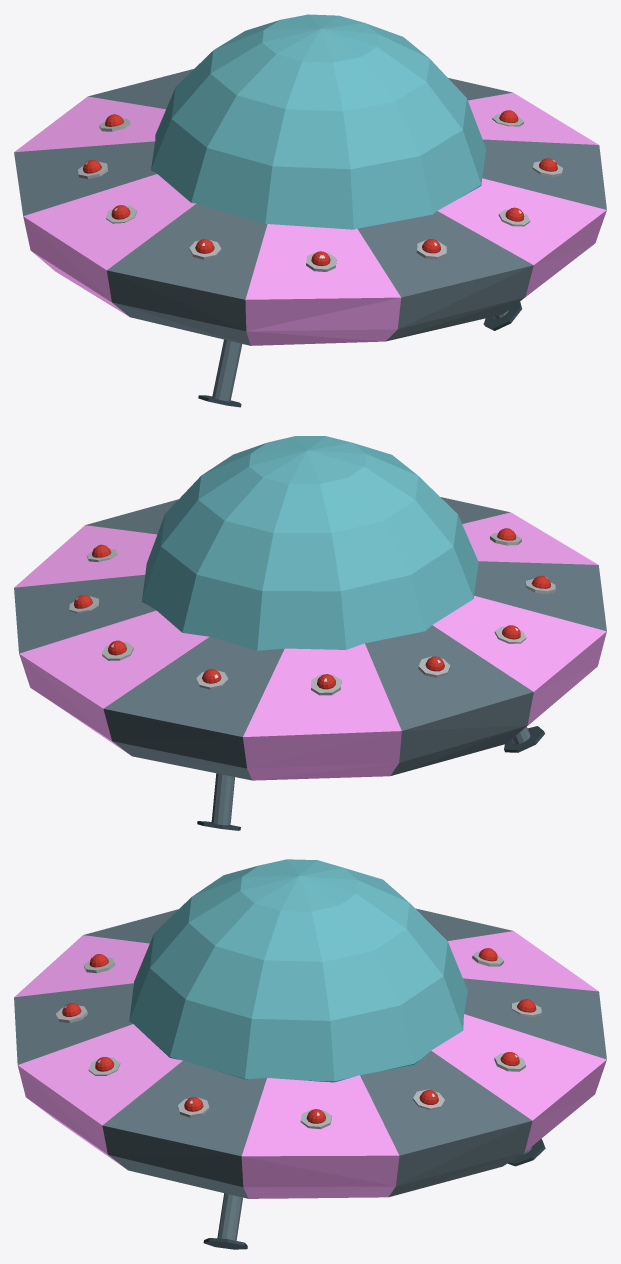
The picture shows the model from 3 angles, top to bottom: view 1: azimuth 30°, elevation 25°; view 2: azimuth 150°, elevation 25°; view 3: azimuth 270°, elevation 25°; orthographic projection.
Parts seen in each view (by area): view 1: node_MeshObject-855471104-PolyPaper16, node_MeshObject-283392000-PolyGem25; view 2: node_MeshObject-855471104-PolyPaper16, node_MeshObject-283392000-PolyGem25; view 3: node_MeshObject-855471104-PolyPaper16, node_MeshObject-283392000-PolyGem25.
Boxes of the visible parts, <box> form: node_MeshObject-855471104-PolyPaper16: <box>14,14,606,407</box>; node_MeshObject-283392000-PolyGem25: <box>14,92,606,345</box>; node_MeshObject-855471104-PolyPaper16: <box>14,436,606,830</box>; node_MeshObject-283392000-PolyGem25: <box>14,512,606,780</box>; node_MeshObject-855471104-PolyPaper16: <box>14,859,606,1249</box>; node_MeshObject-283392000-PolyGem25: <box>14,931,606,1198</box>.
Size of the model in its own units: 0.9165 by 0.5244 by 0.9131.
